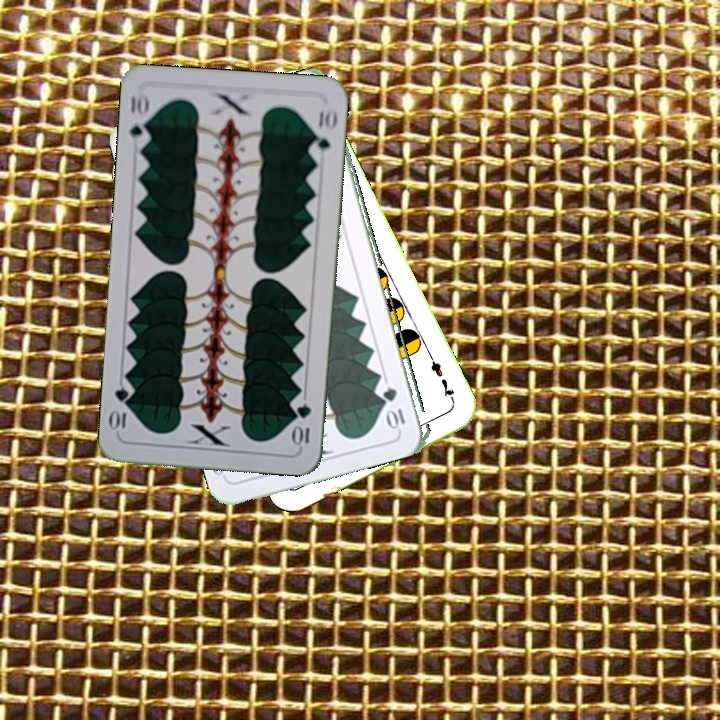E7: (425, 350, 458, 406)
G10: (125, 89, 153, 149), (381, 383, 408, 432), (291, 400, 314, 449)
